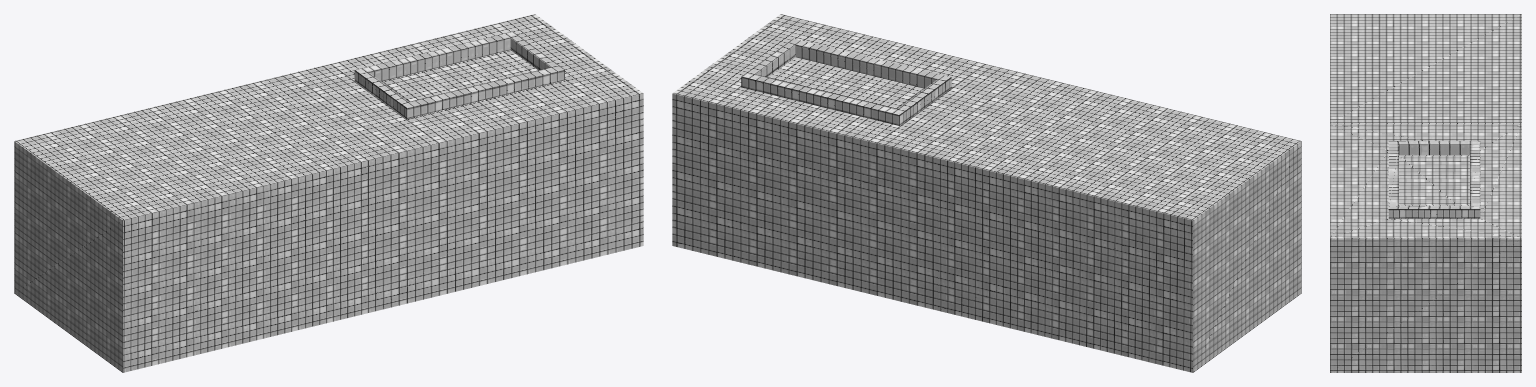
The model's file is paper_top_pn_bmk_box.obj.
The picture shows the model from 3 angles, left to right: view 1: azimuth 30°, elevation 25°; view 2: azimuth 150°, elevation 25°; view 3: azimuth 270°, elevation 25°; orthographic projection. The views are drawn at different scales.
Parts seen in each view (by area): view 1: pnbmk_box.002_Cube.018; view 2: pnbmk_box.002_Cube.018; view 3: pnbmk_box.002_Cube.018.
Boxes of the visible parts, x1,y1,x2,y2 form: pnbmk_box.002_Cube.018: (14, 14, 643, 372); pnbmk_box.002_Cube.018: (672, 14, 1301, 372); pnbmk_box.002_Cube.018: (1330, 14, 1521, 372).
Size of the model in its own units: 8.27 by 2.48 by 2.99.
